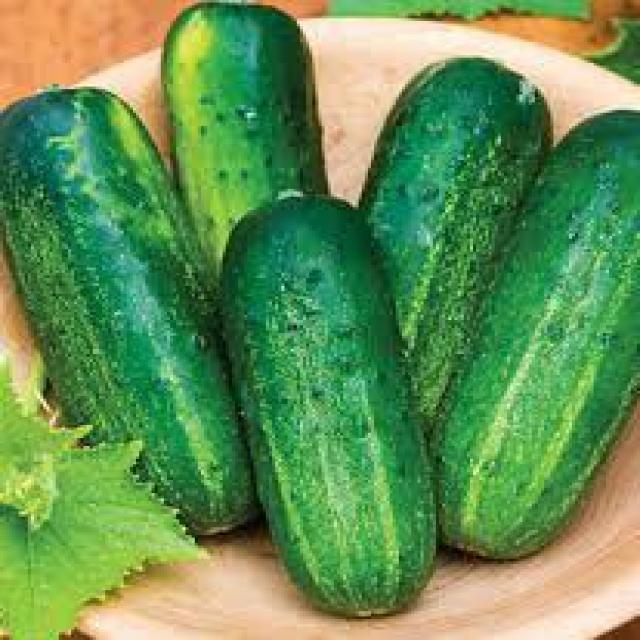cucumber: (0, 85, 256, 532), (428, 109, 639, 562), (219, 195, 439, 612), (344, 51, 553, 426), (160, 8, 337, 274)
